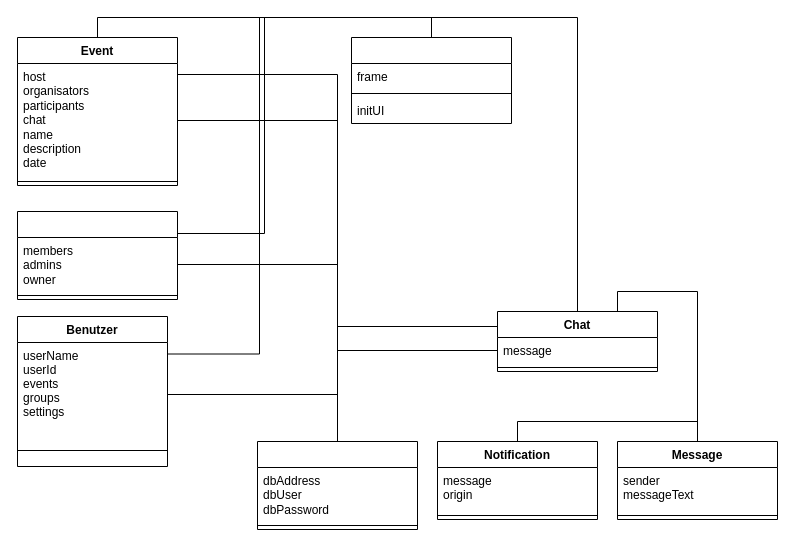
Some shapes in this 795 by 547 pixel diagram are drawn without their labels. The shapes that lost their labels are listed below. From the top down, each one's box as (x1, y1, x2, y2) in pixels, then its label:
(350, 36, 512, 124): UI
(16, 210, 178, 300): Gruppe
(256, 440, 418, 530): DBConnector
